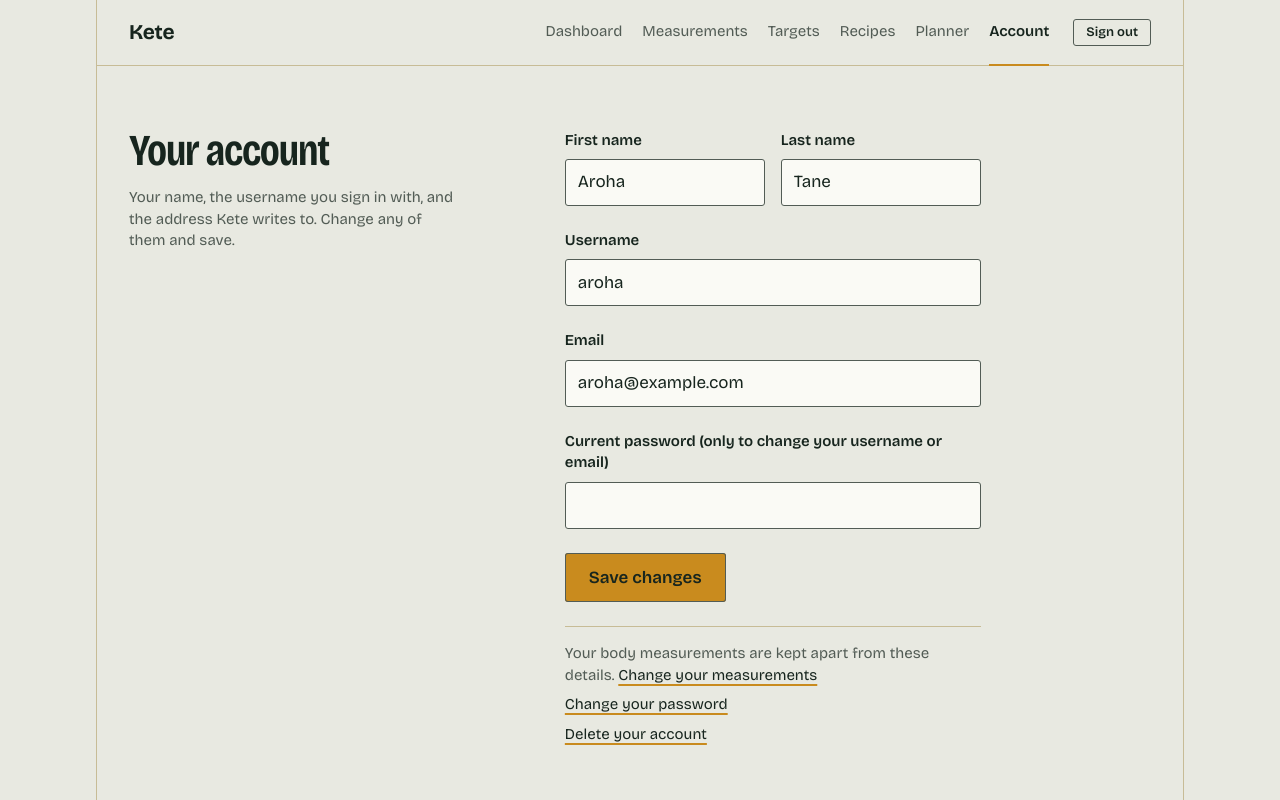
Test: focus after a write › puts focus back on the button a save left standing
Replace the text in the field labelled "Username" with "aroha-t" at (773, 283), box left=565, top=259, right=981, bottom=306
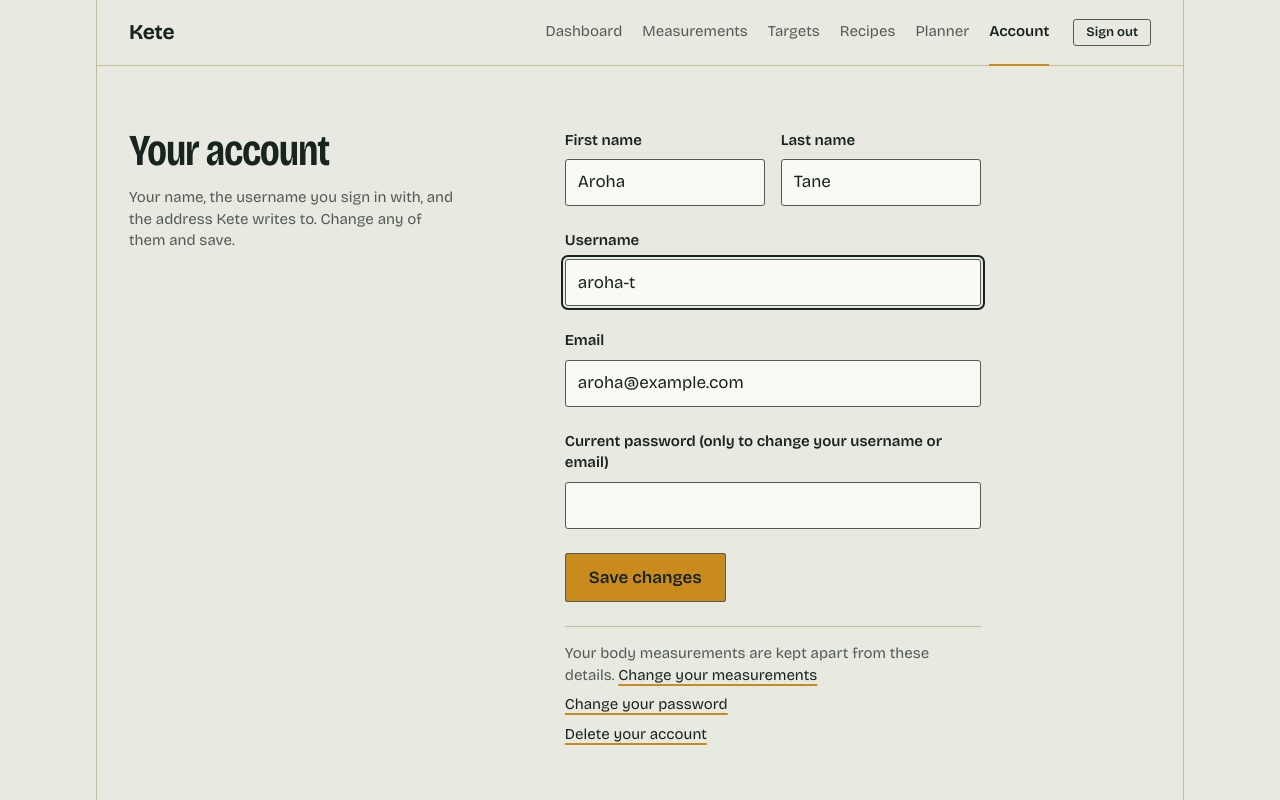
Click the button "Save changes" at (645, 578), box left=565, top=553, right=726, bottom=602
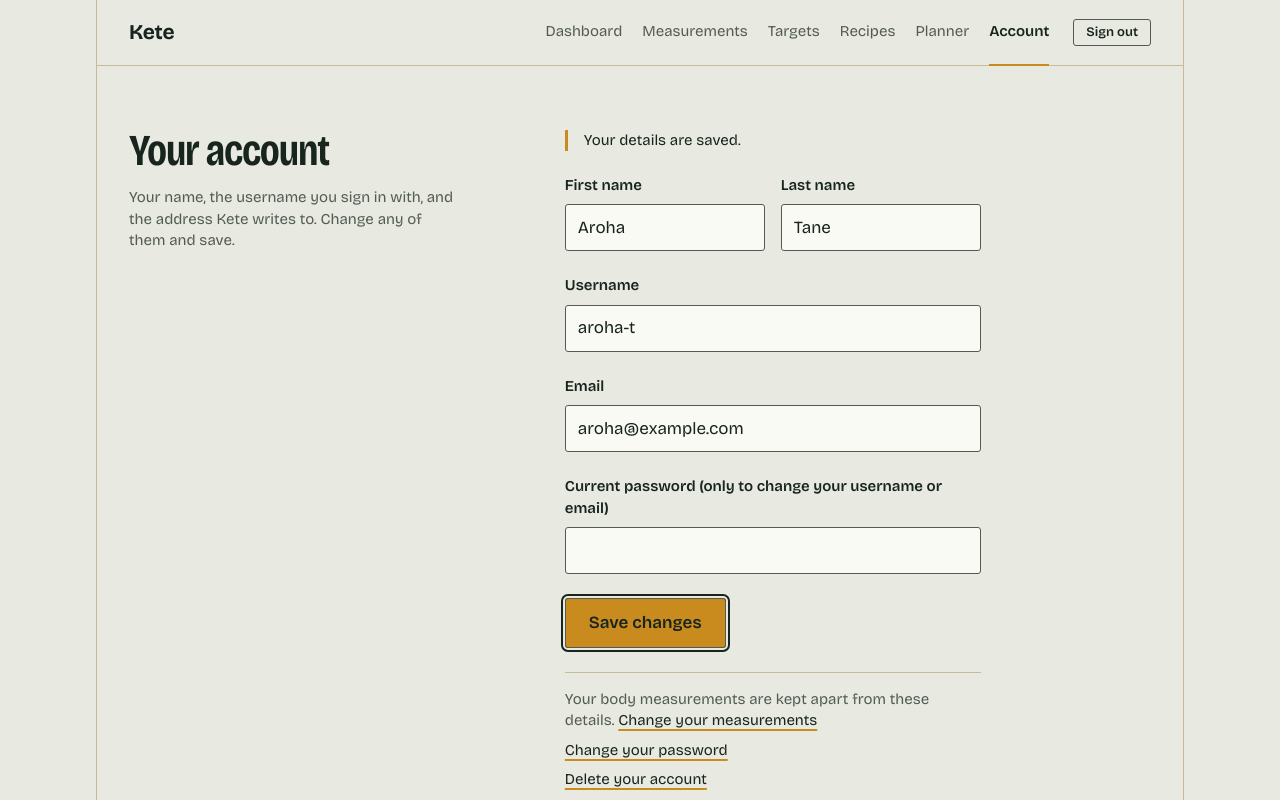
Expected: the message "Your details are saved." is shown, left=565, top=130, right=981, bottom=151
